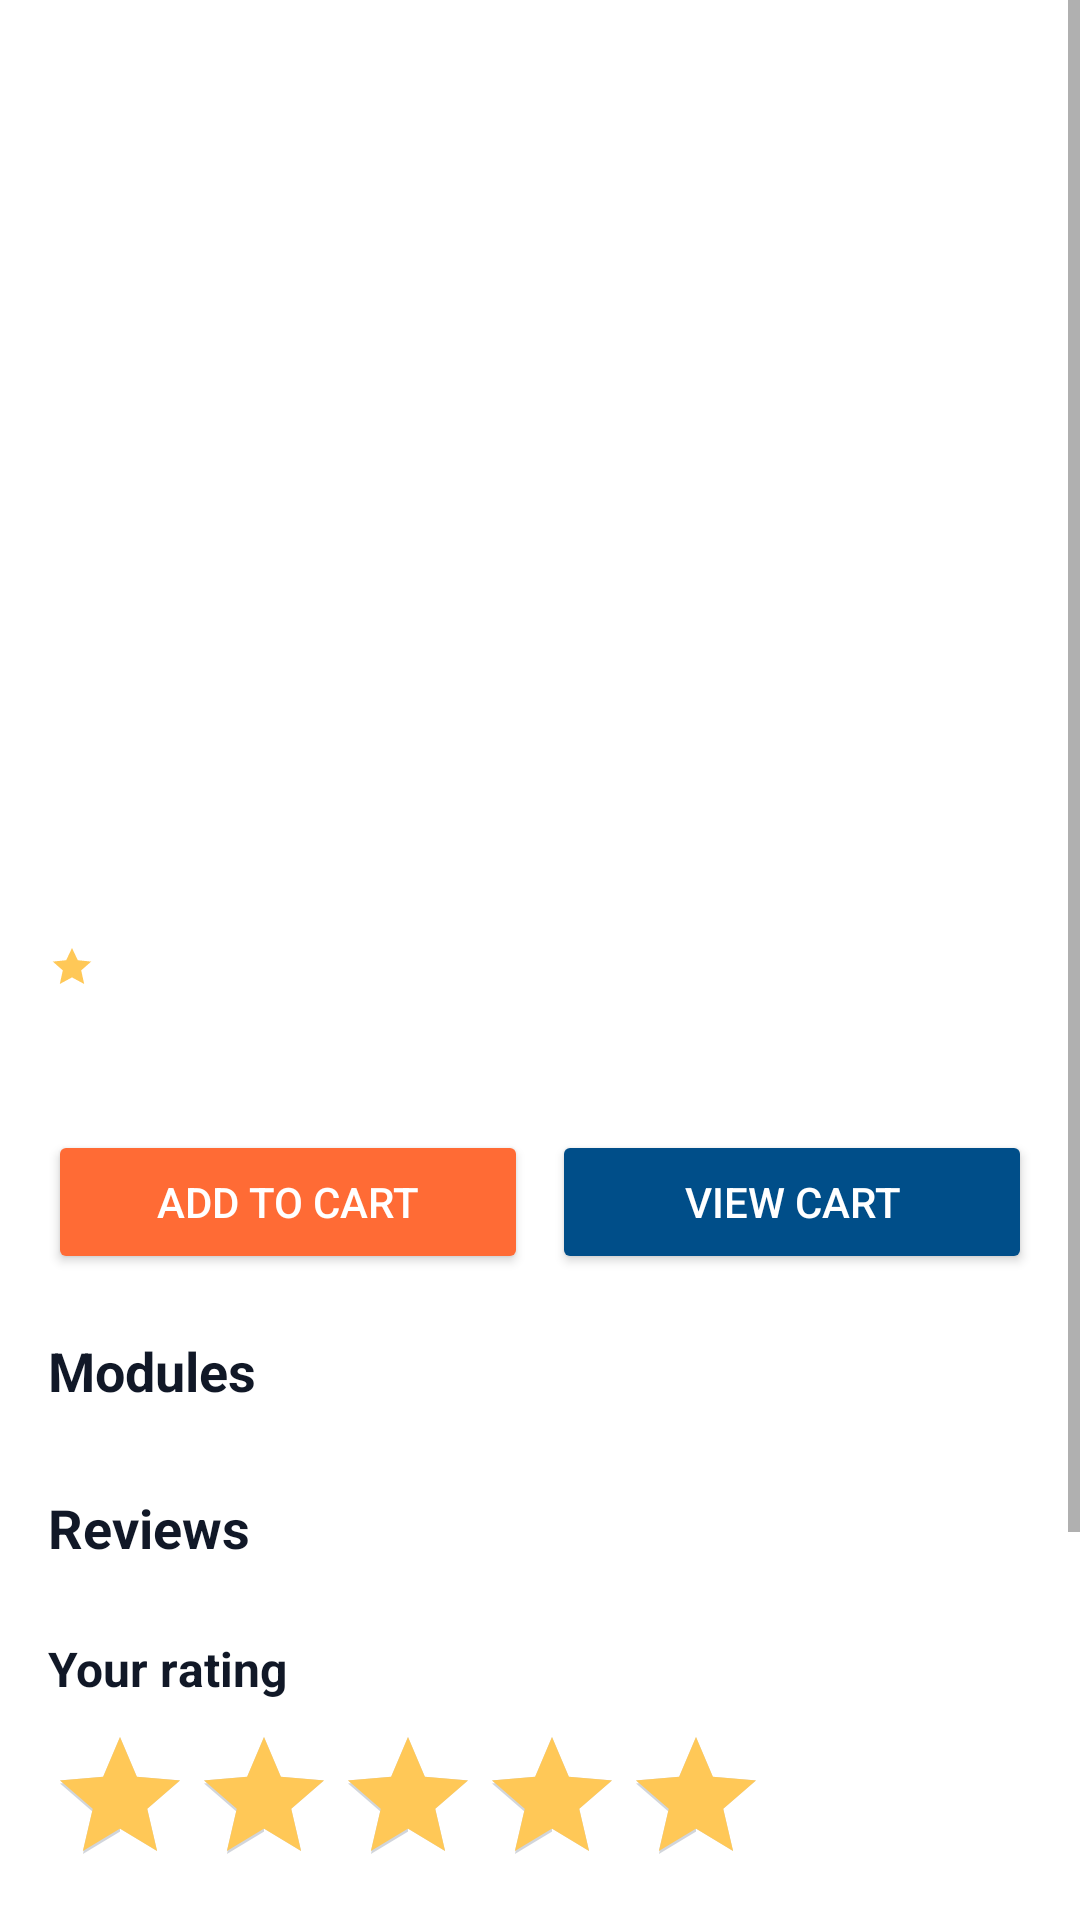

Icons on this 1080*1920 Android screen, each with its box as Rect(x1, y1, x2, y2):
star: Rect(53, 948, 91, 984)
